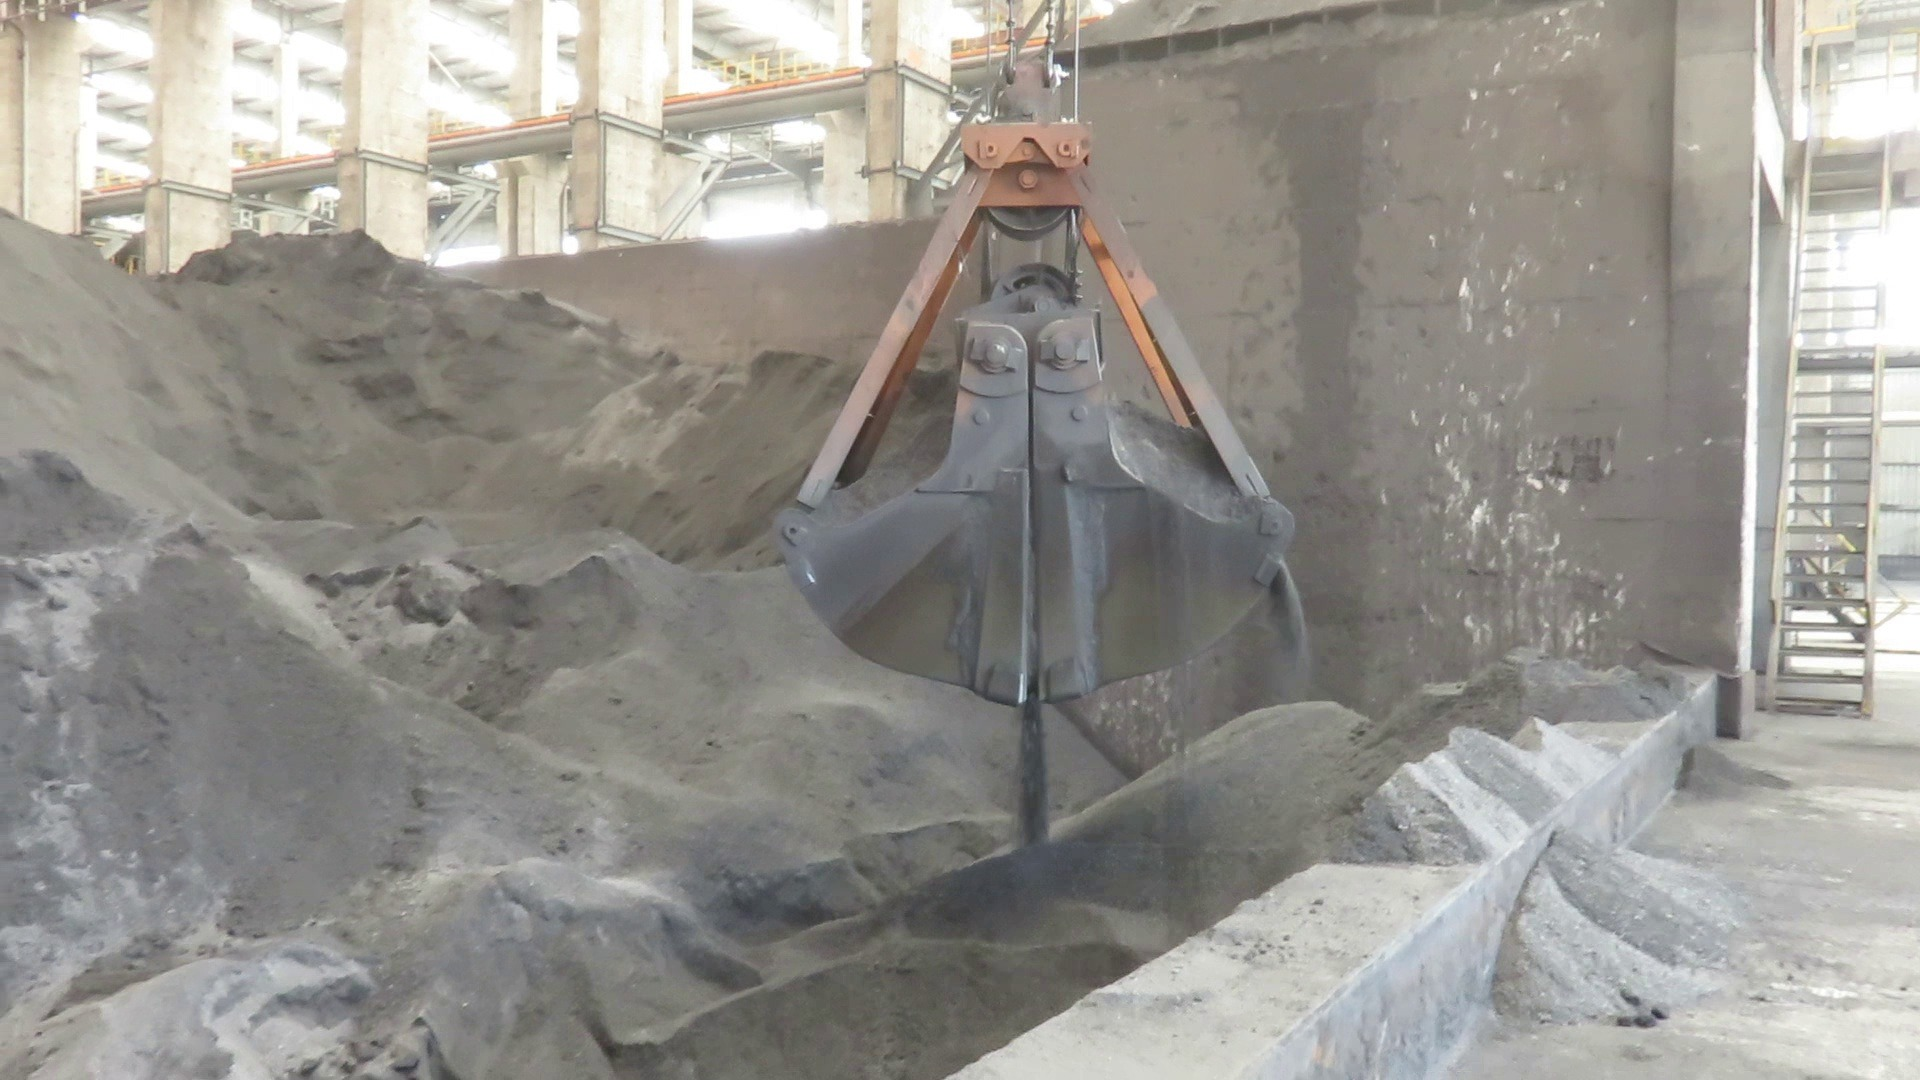grab: (767, 66, 1312, 715)
